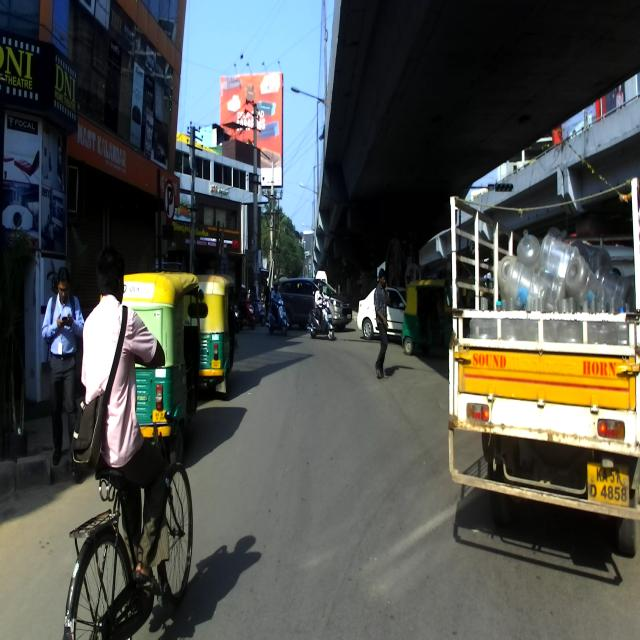auto ahead at: (200, 277, 240, 401)
bicycle ahead at: (66, 434, 196, 640)
person ahead at: (44, 269, 82, 477), (369, 257, 399, 385)
truck ahead at: (447, 175, 640, 548)
